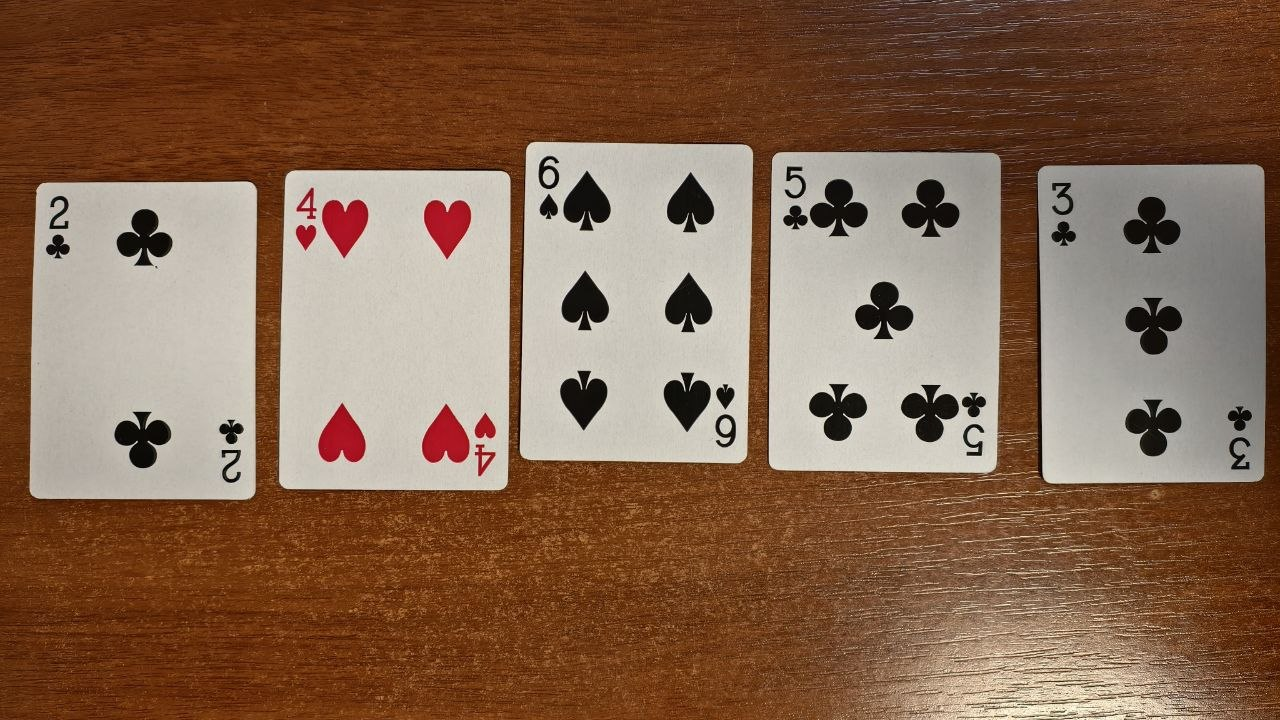2C: (29, 178, 258, 501)
3C: (1037, 160, 1268, 485)
4H: (278, 167, 513, 493)
5C: (769, 150, 1001, 474)
6S: (520, 138, 754, 465)
